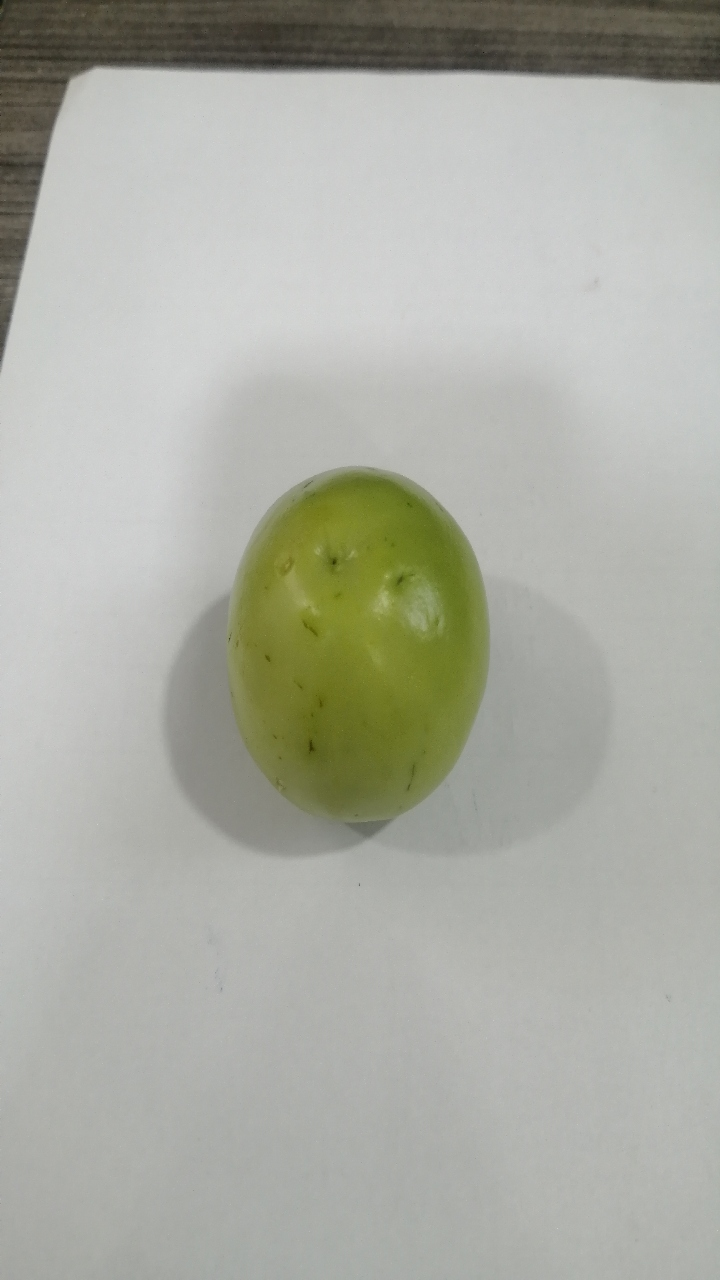tomateVerde: (209, 452, 509, 852)
